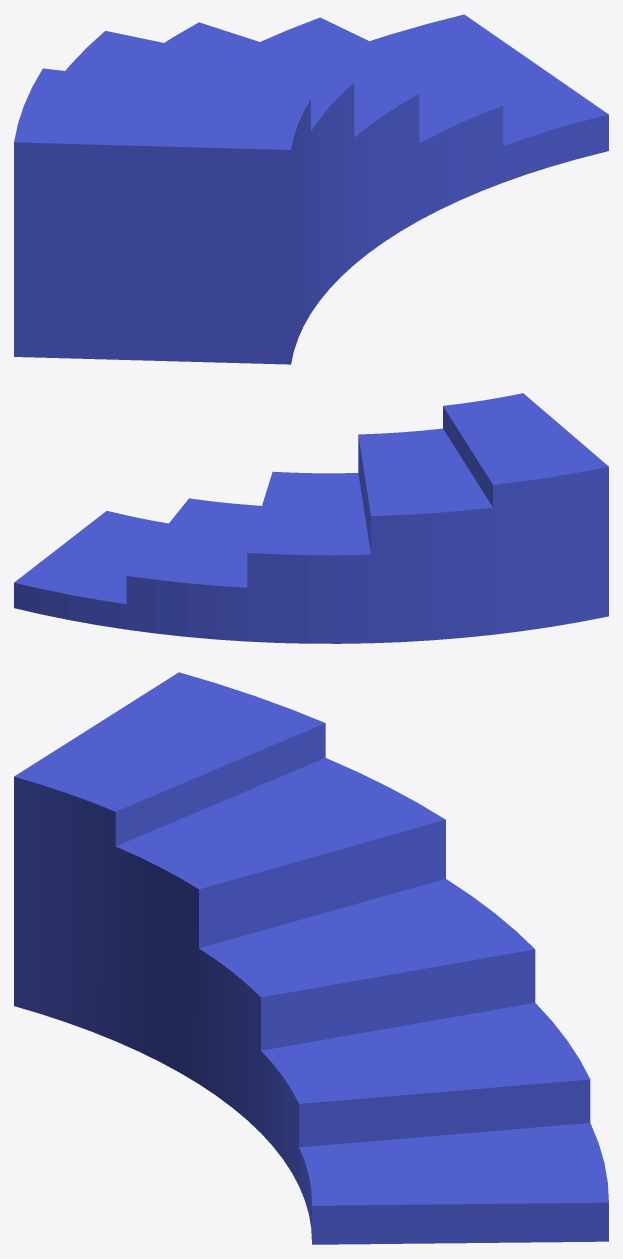
The model's file is Bunker1Staircase.fbx.
3 renders of one model, top to bottom at view 1: azimuth 30°, elevation 25°; view 2: azimuth 150°, elevation 25°; view 3: azimuth 270°, elevation 25°, orthographic. The views are drawn at different scales.
Visible parts, largest first — view 1: Bunker.007; view 2: Bunker.007; view 3: Bunker.007.
Part boxes in pixels (box(x1,y1,x2,y2)): Bunker.007: box(14, 14, 608, 364); Bunker.007: box(14, 393, 608, 643); Bunker.007: box(14, 672, 608, 1244).
Bounding box in the file's own units: 6 × 1.87 × 4.4.
